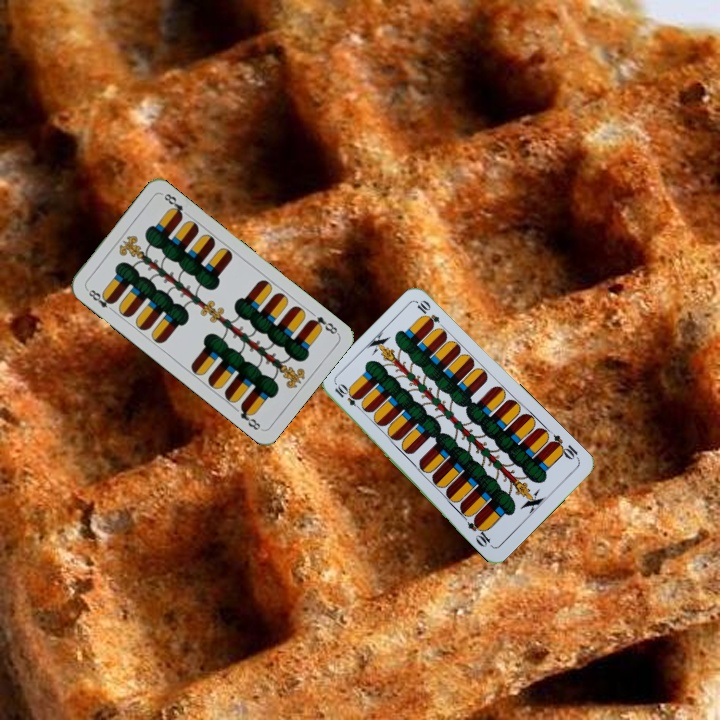E10: (545, 430, 582, 463), (331, 380, 366, 413)
E8: (83, 285, 117, 315), (305, 312, 341, 337)
